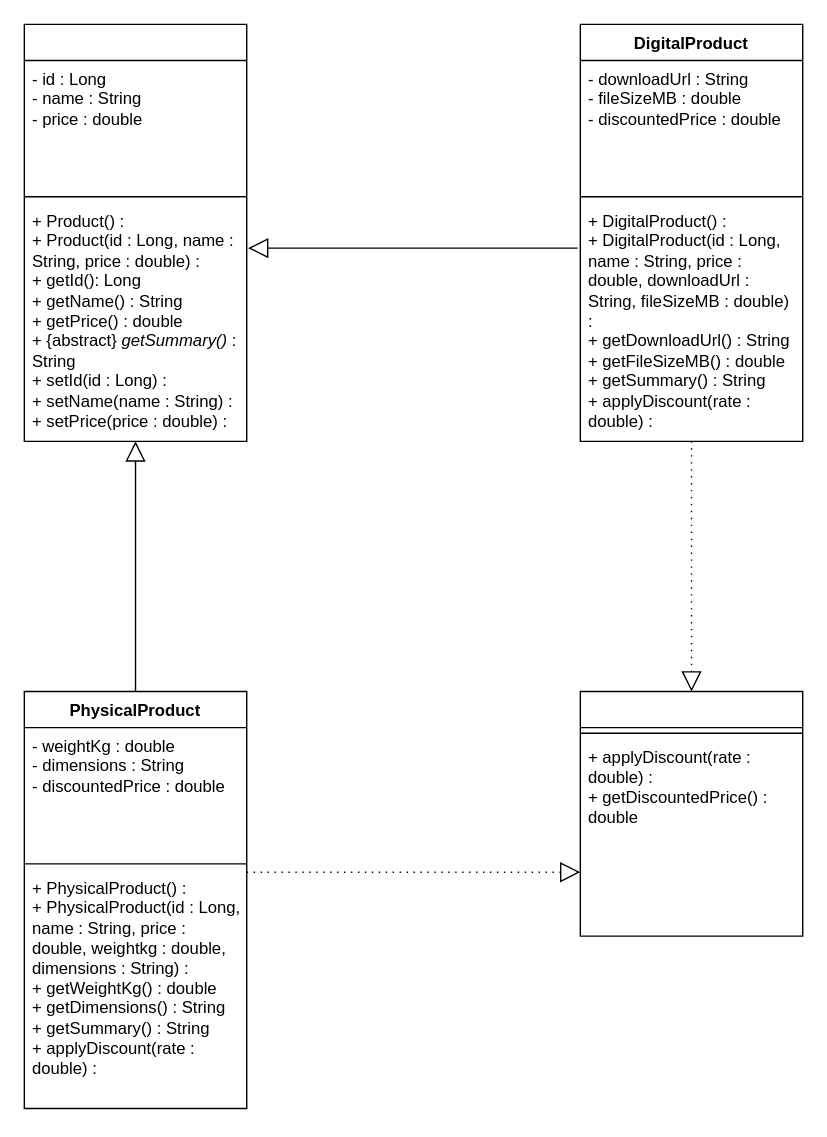
The diagram is 827 pixels wide and 1137 high, and some of its shapes have lost their labels. The box of each missing label's shape, as (x1, y1, x2, y2) in pixels:
{abstract} Product: (23, 23, 247, 441)
«interface» Discountable: (579, 690, 803, 936)
